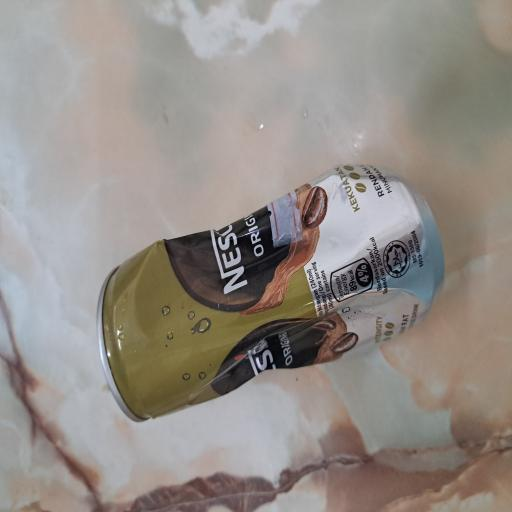can: (66, 129, 261, 512)
